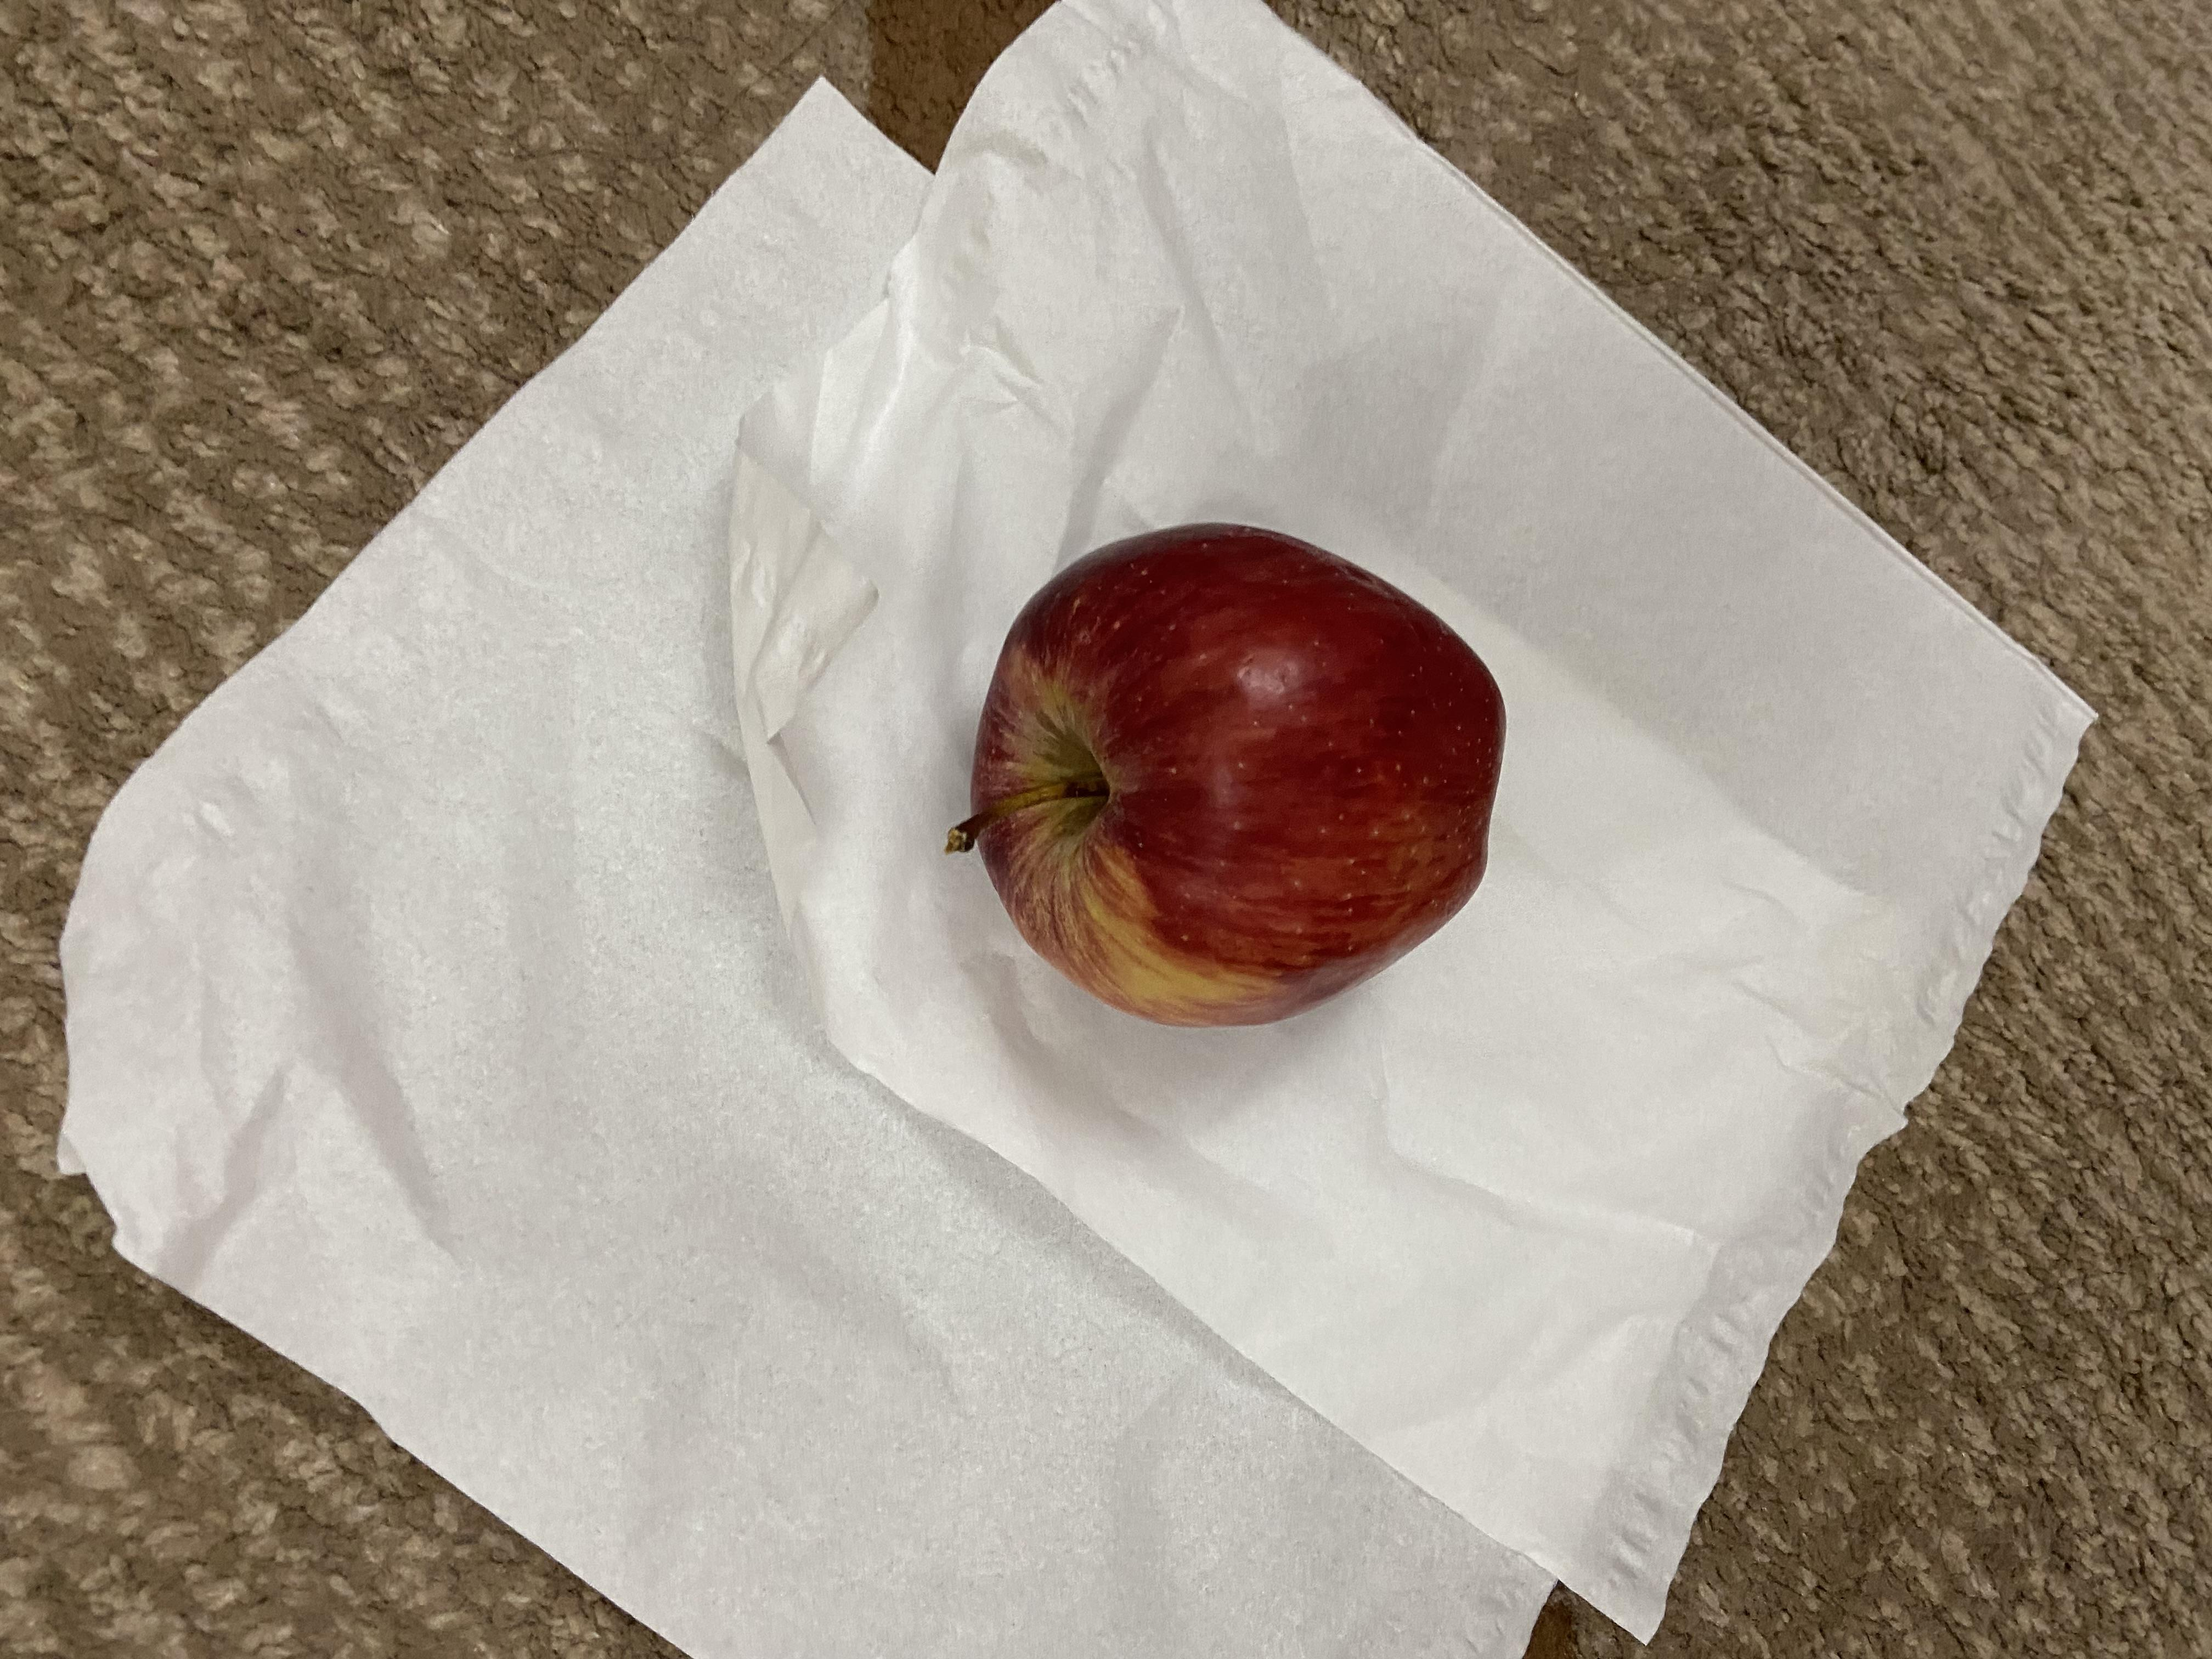Apple: (830, 699, 1530, 1136)
